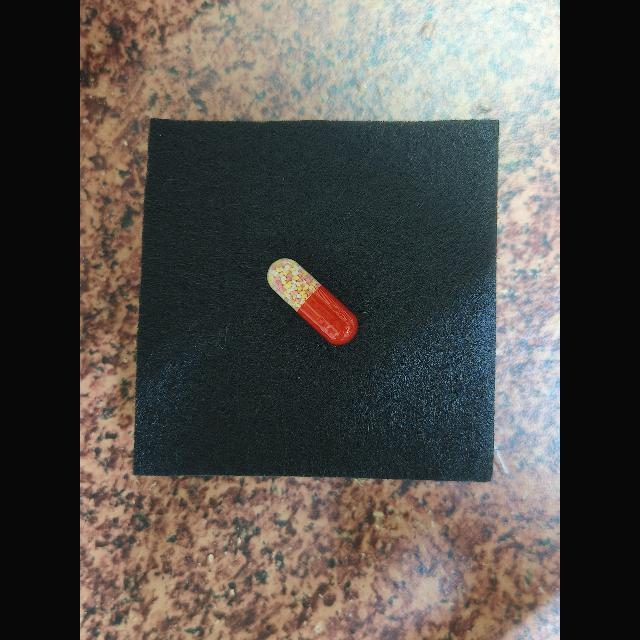Intact Capsule: (267, 258, 358, 345)
